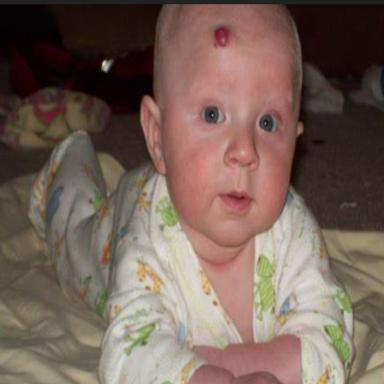Hemangiome: (215, 27, 227, 47)
